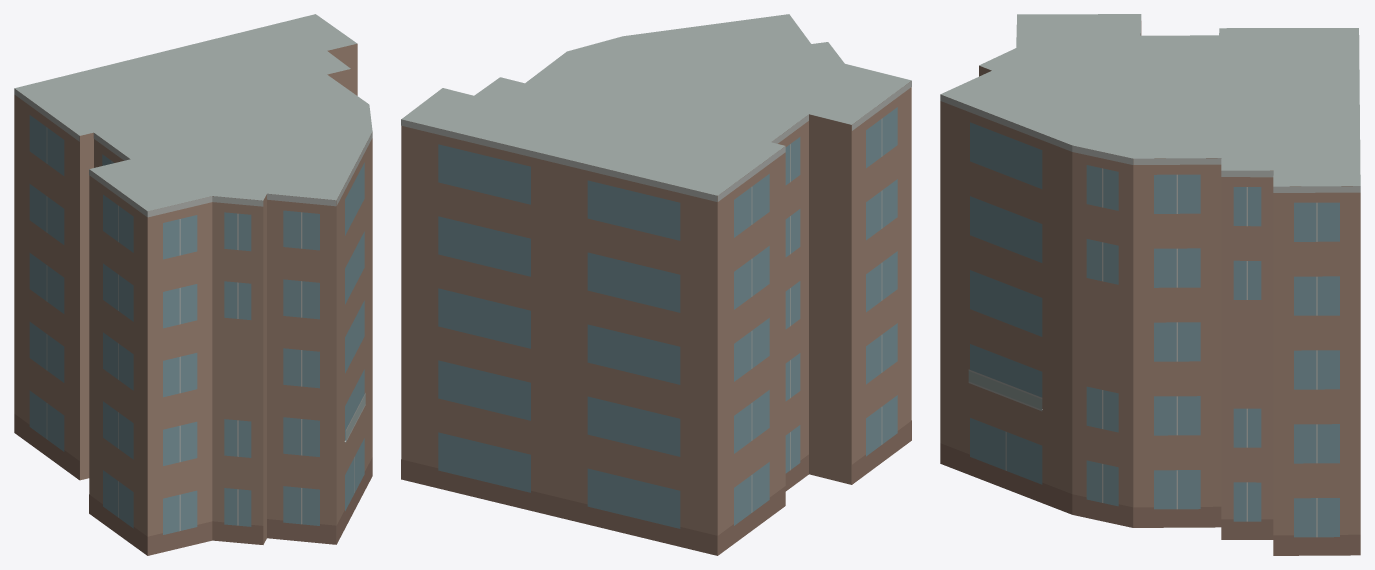
Rendered from survey-upis-32550168.glb.
3 renders of one model, left to right at view 1: azimuth 30°, elevation 25°; view 2: azimuth 150°, elevation 25°; view 3: azimuth 270°, elevation 25°, orthographic. The views are drawn at different scales.
Parts seen in each view (by area): view 1: survey-upis-32550168.tmp; view 2: survey-upis-32550168.tmp; view 3: survey-upis-32550168.tmp.
Boxes of the visible parts, x1,y1,x2,y2 form: survey-upis-32550168.tmp: [14, 14, 372, 555]; survey-upis-32550168.tmp: [401, 14, 911, 555]; survey-upis-32550168.tmp: [940, 14, 1360, 555].
Bounding box in the file's own units: 13.84 × 13.8 × 14.24.
